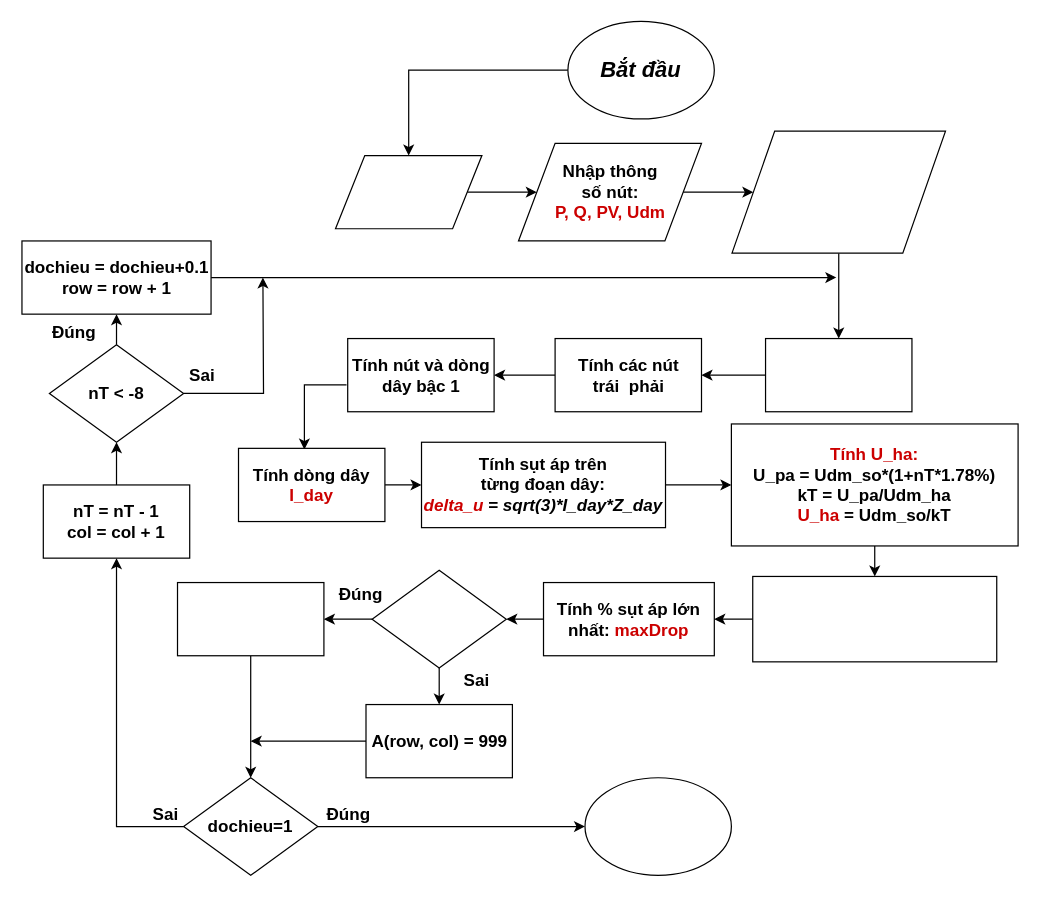
Some shapes in this 1039 by 897 pixel diagram are drawn without their labels. The centre of each missing label's shape, as x and y in pixels:
A(row, col) = nT: the point at 250,618
Kết thúc: the point at 657,826
maxDrop < 5: the point at 438,618
Nhập số lượng nút: the point at 408,191
Nhập thông số đường dây: [2 nút], R, L, X, dài: the point at 838,191
Tính dòng tại nút: I_nut: the point at 838,374
Tính điện áp tại các nút: U_nut = U_ha - sum( delta_u ): the point at 874,618
